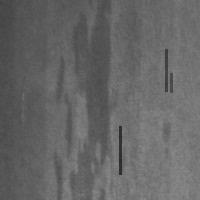inclusion: (53, 10, 115, 198), (157, 118, 175, 157), (118, 124, 122, 176), (164, 47, 168, 93), (169, 71, 173, 94)
